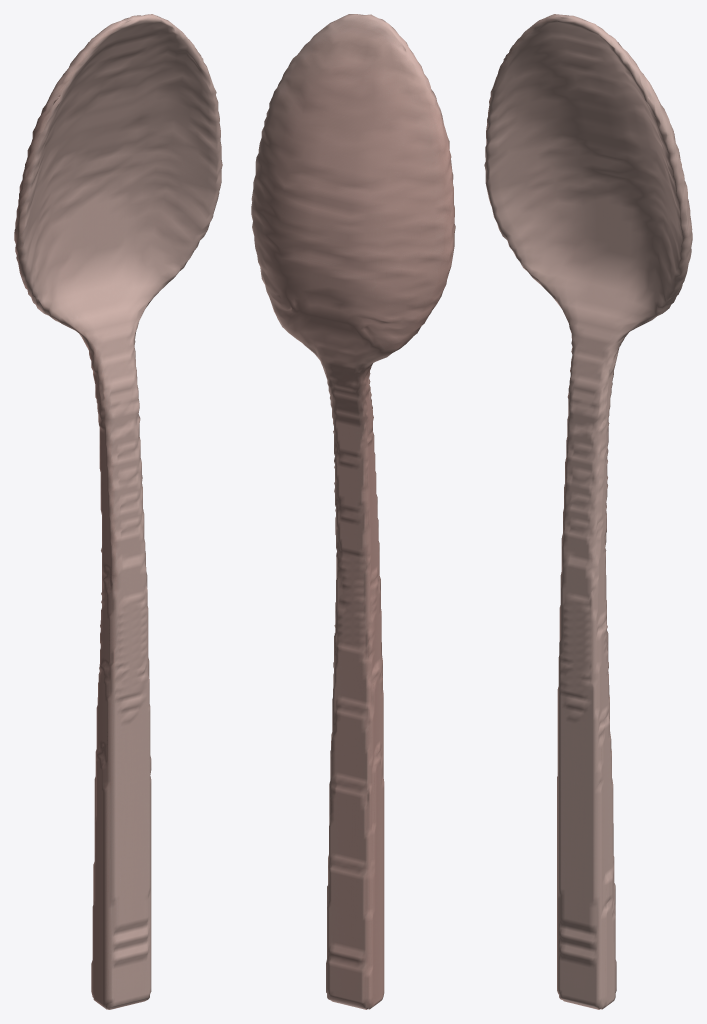
Rendered from Copperteaspoon_0701033339_texture.glb.
3 renders of one model, left to right at view 1: azimuth 30°, elevation 25°; view 2: azimuth 150°, elevation 25°; view 3: azimuth 330°, elevation 25°, orthographic.
Parts seen in each view (by area): view 1: Mesh_0.001; view 2: Mesh_0.001; view 3: Mesh_0.001.
Part boxes in pixels (x1,y1,x2,y2): Mesh_0.001: (14, 14, 222, 1009); Mesh_0.001: (251, 14, 455, 1009); Mesh_0.001: (484, 14, 692, 1009).
Bounding box in the file's own units: 0.0259 × 0.12 × 0.0101.
1 material, 1 textured.
